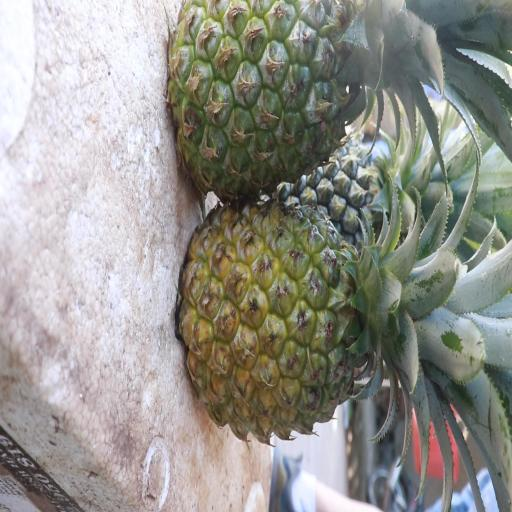------------------------------: (170, 0, 404, 196)
Pineapple - v8 v1: (186, 204, 418, 452)
